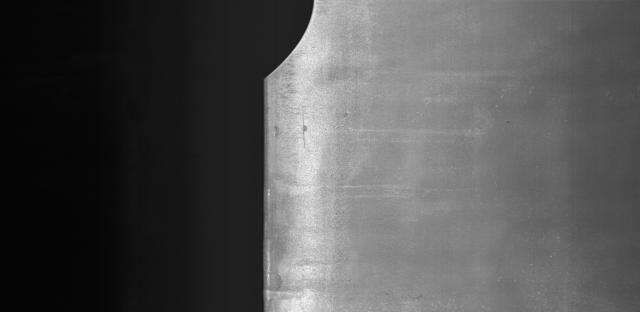crescent_gap: (248, 0, 320, 84)
